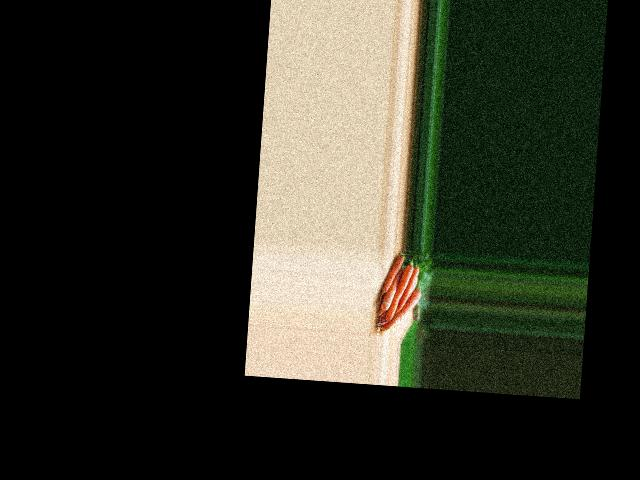carrot: (374, 251, 403, 298)
